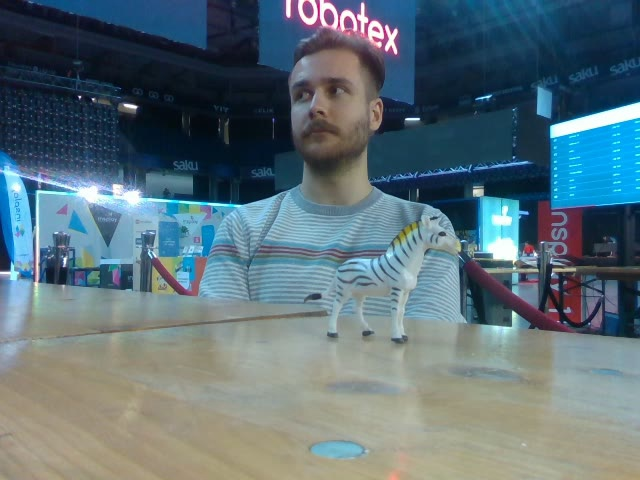toy: (306, 213, 462, 342)
